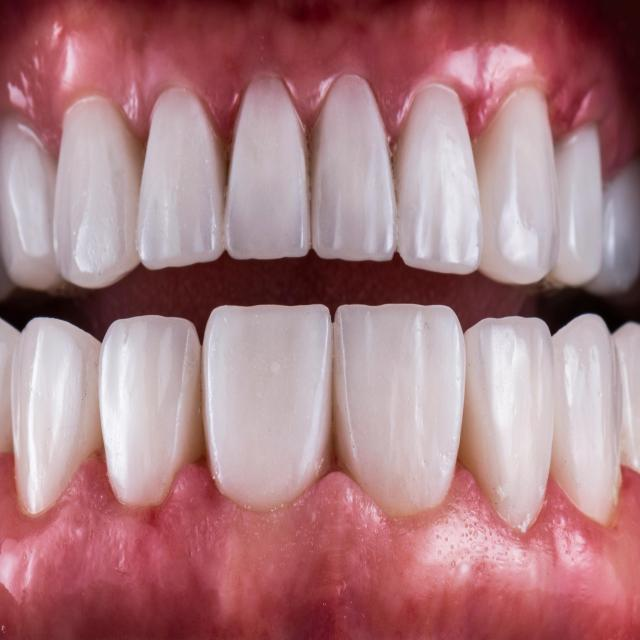tooth: (333, 303, 466, 517), (200, 304, 335, 512), (458, 316, 554, 533), (98, 315, 205, 506), (11, 317, 106, 516), (53, 94, 147, 288), (470, 86, 560, 286), (392, 84, 483, 275), (308, 74, 398, 262), (137, 87, 229, 270), (222, 75, 312, 260), (549, 313, 623, 526)
